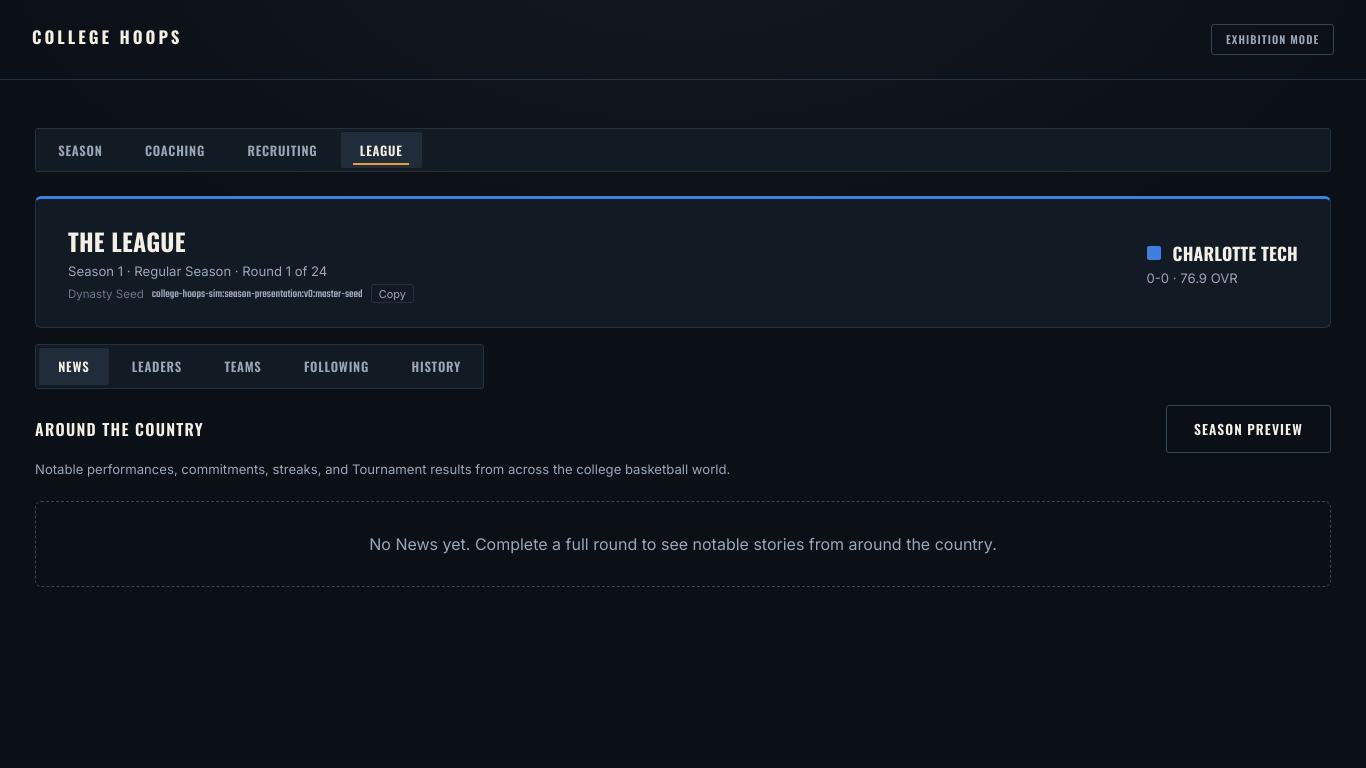
Test case: Teams directory › lists every Conference and opens Team Details for a non-controlled Program
The image size is (1366, 768).
Click the button "Teams" at coordinates (243, 367), box [205, 348, 281, 385]
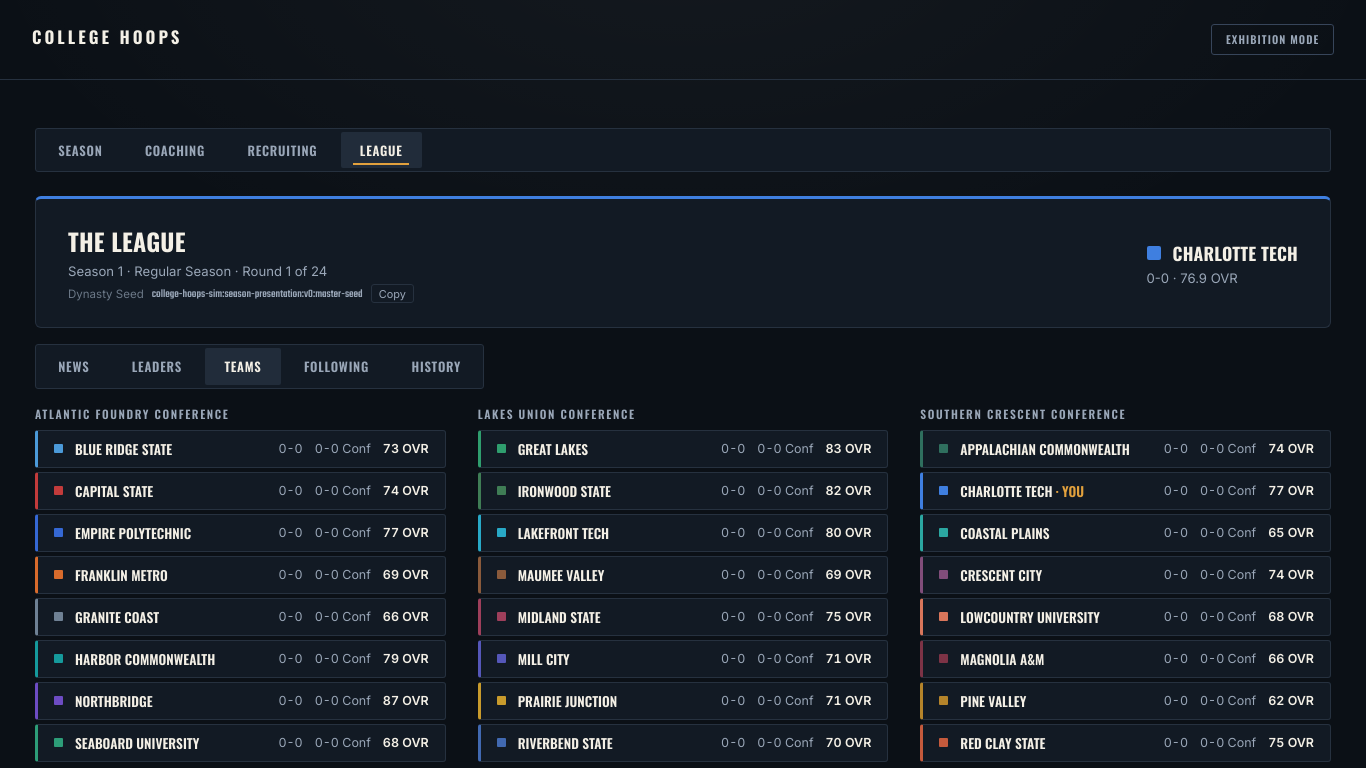
Check: the heading "Atlantic Foundry Conference" is shown, box [35, 405, 230, 422]
Check: the heading "Lakes Union Conference" is shown, box [478, 405, 636, 422]
Check: the heading "Southern Crescent Conference" is shown, box [920, 405, 1126, 422]
Click the button "Northbridge 0-0 0-0 Conf 87 OVR" at coordinates (114, 701), box [35, 682, 446, 720]
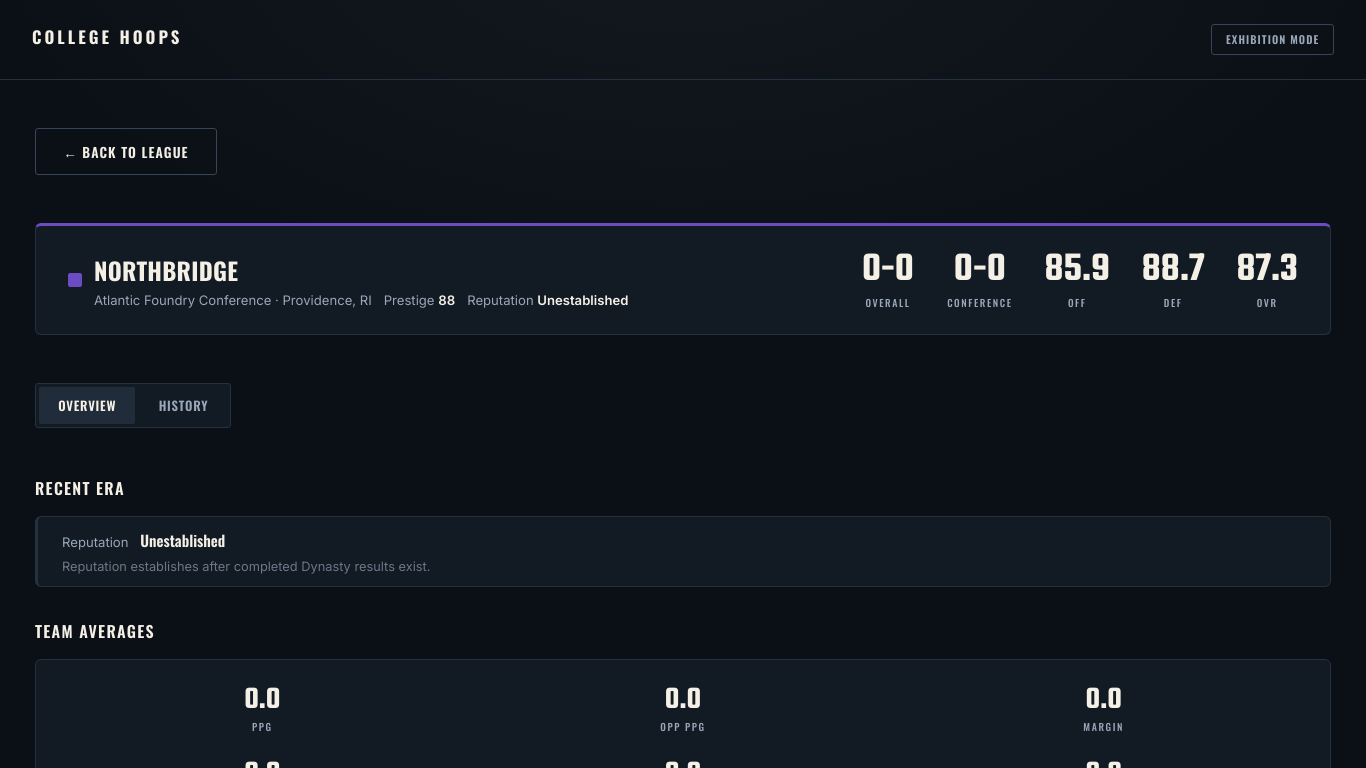
Check: the heading "Northbridge" is shown, box [94, 252, 238, 288]
Check: the text "Overall" is shown, box [865, 295, 910, 310]
Check: the text "Off" is shown, box [1068, 295, 1086, 310]
